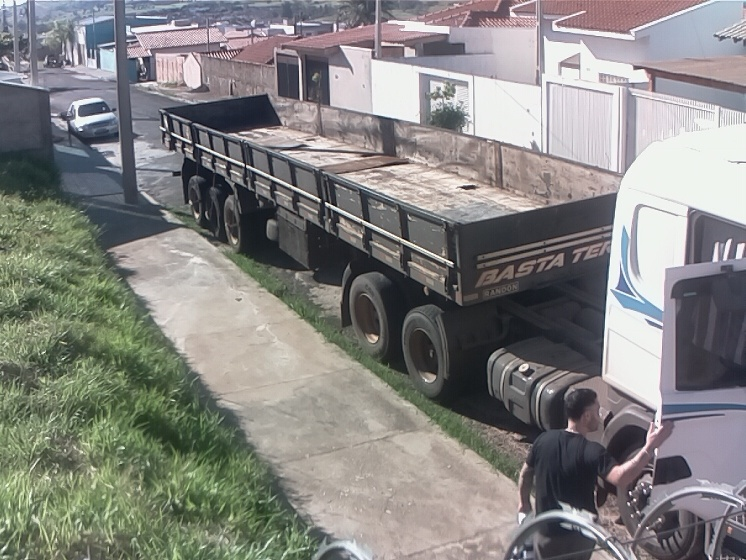person: (512, 386, 678, 560)
